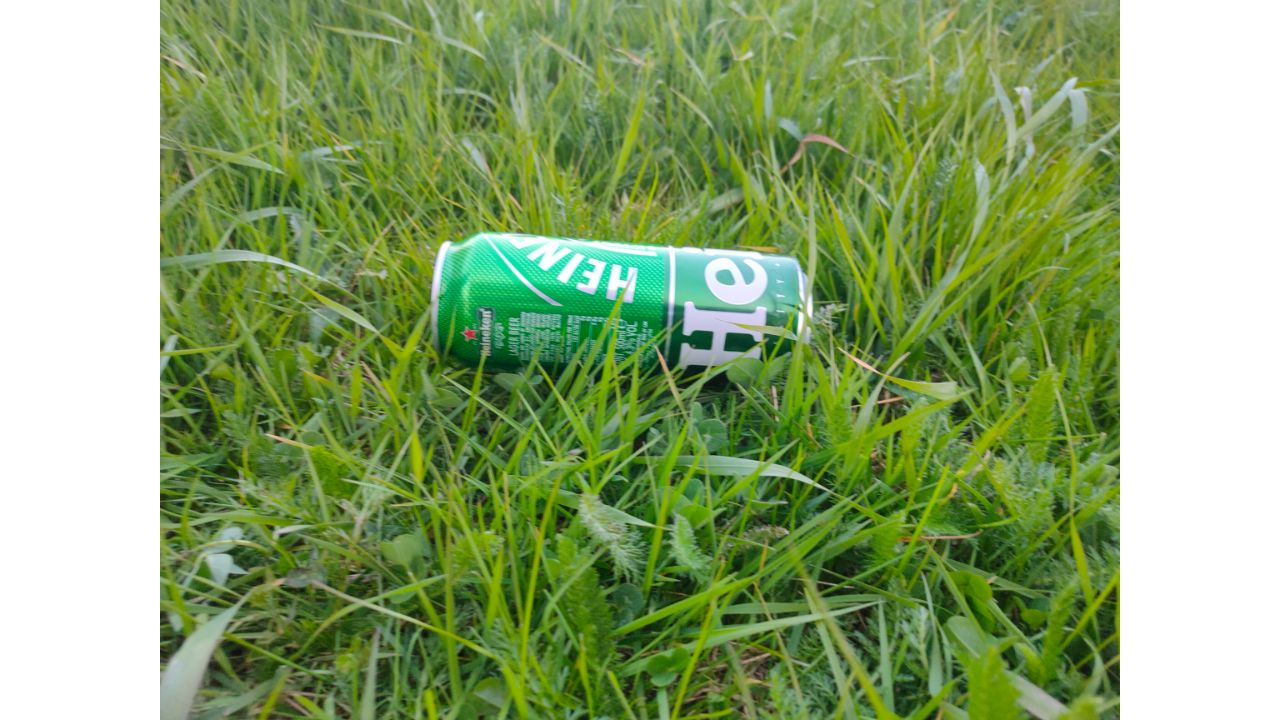Can: (427, 234, 816, 384)
